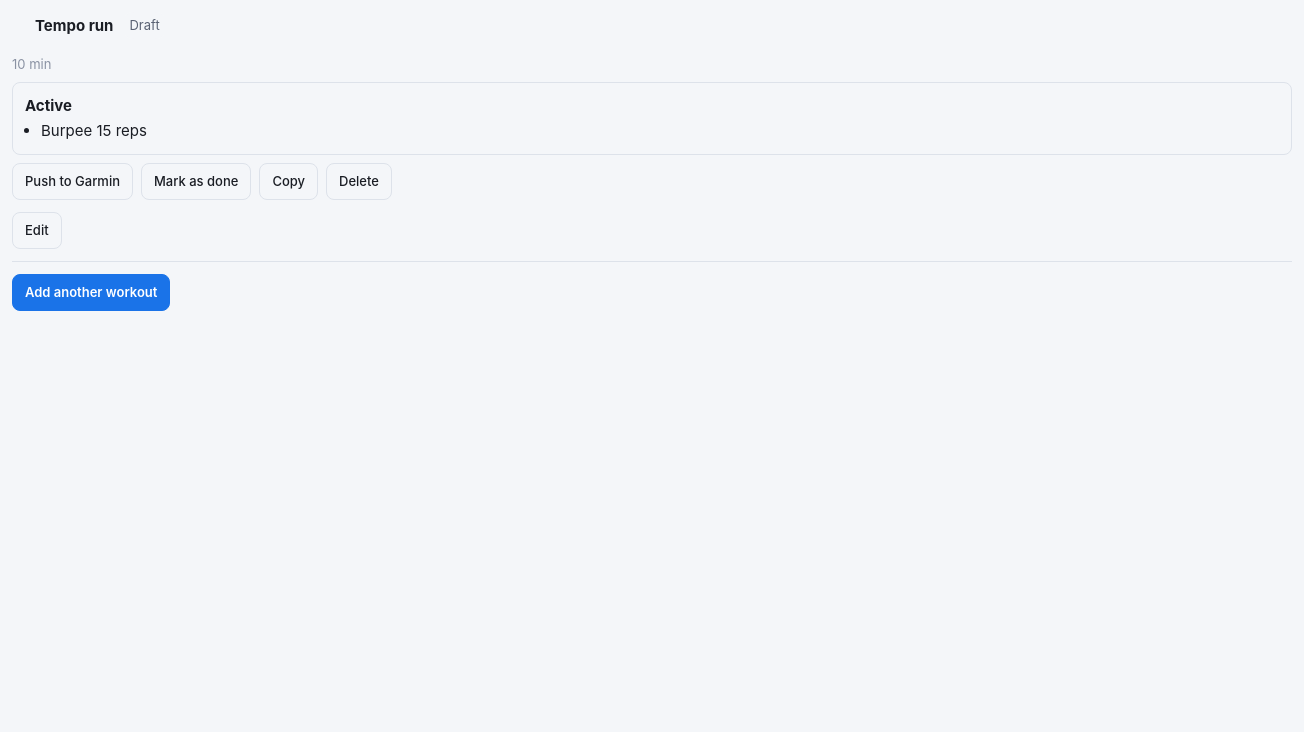
Test case: ScheduleWorkoutForm › hiit/strength_training exercise picker › editing an already-saved hiit workout hydrates the picker from its steps
This screenshot has width=1304, height=732.
Click the button "Edit": (37, 230) [12, 212, 62, 249]
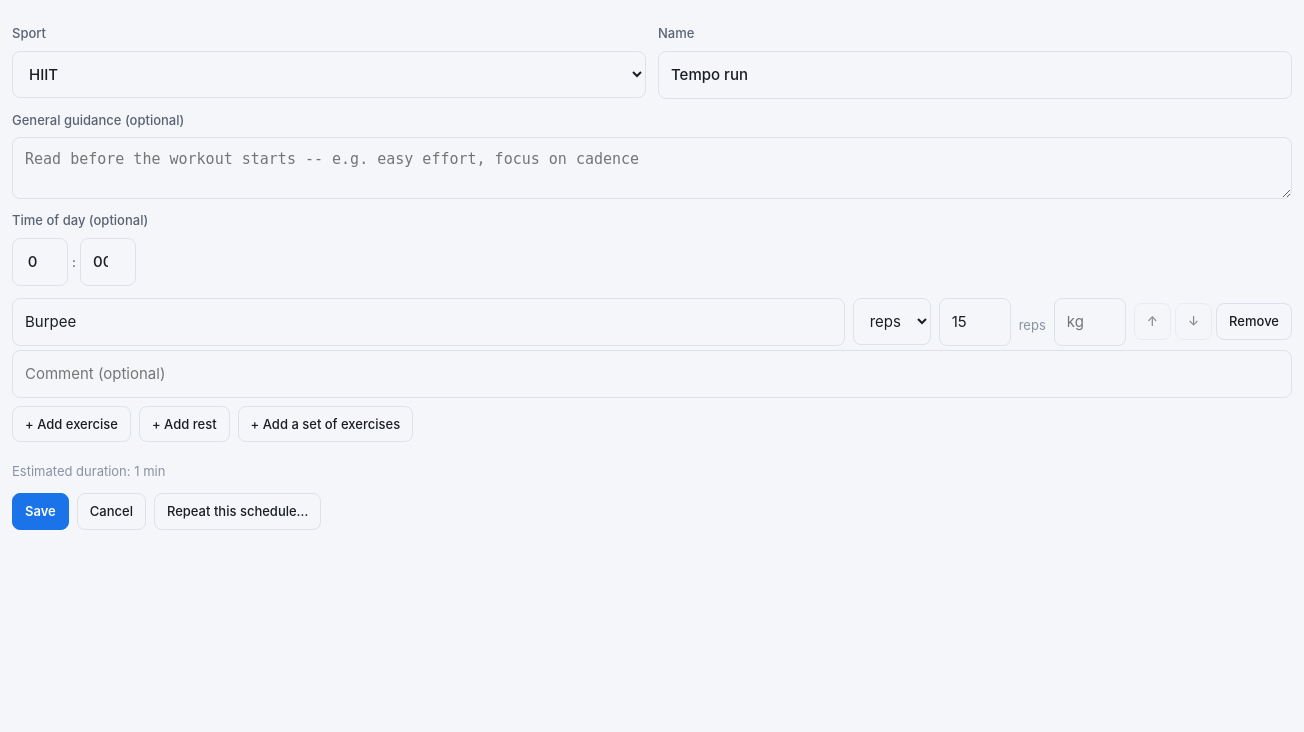
Now the field with placeholder "Search exercises… (e.g. Bench Press)" holds "Burpee", box [12, 298, 845, 346]
Now the number field showing "15" is shown, box [939, 298, 1011, 346]
